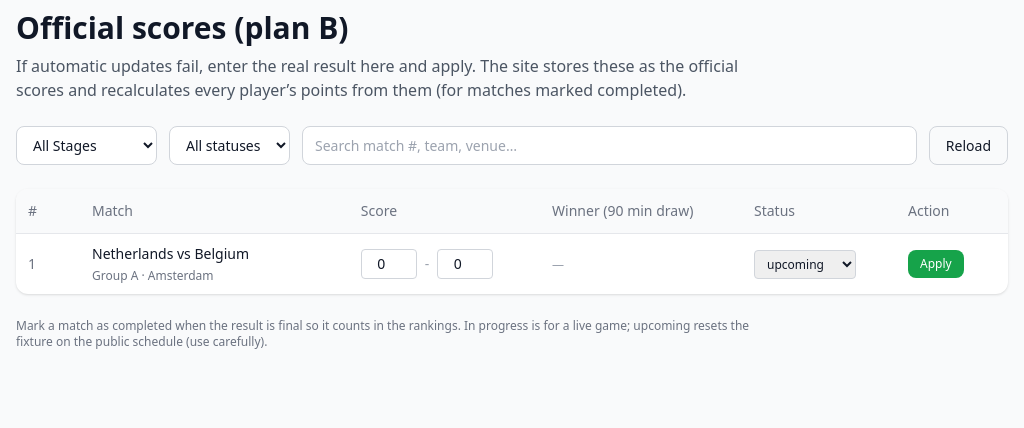
Scenario: AdminScores page › shows an error banner when save fails
This screenshot has width=1024, height=428.
What coordinates should you click on to do the following:
click the button "Apply"
I would click on:
 (936, 264)
Its box is x1=908 y1=250 x2=964 y2=278.
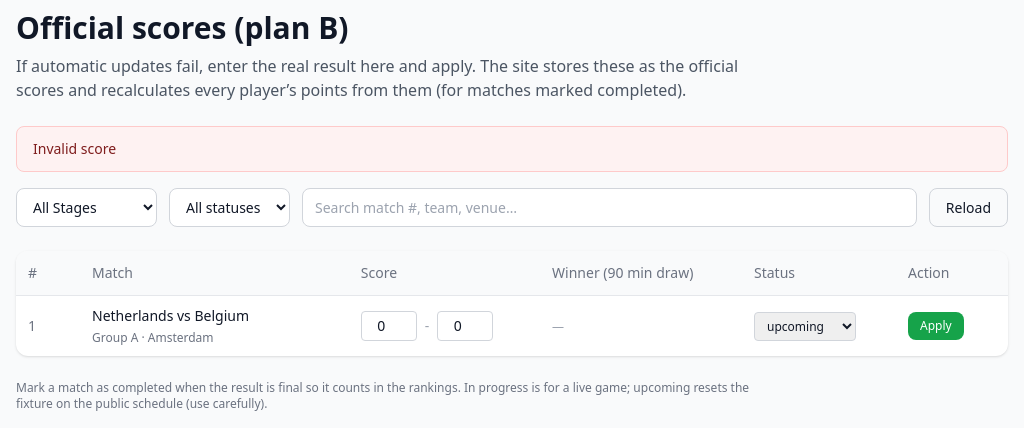
Now the text "Invalid score" is shown, box x1=16 y1=126 x2=1008 y2=172
